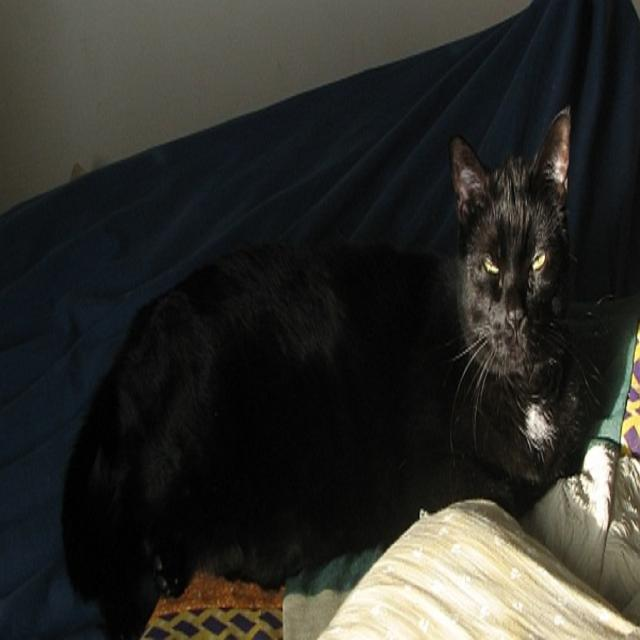Cat: (61, 114, 610, 636)
